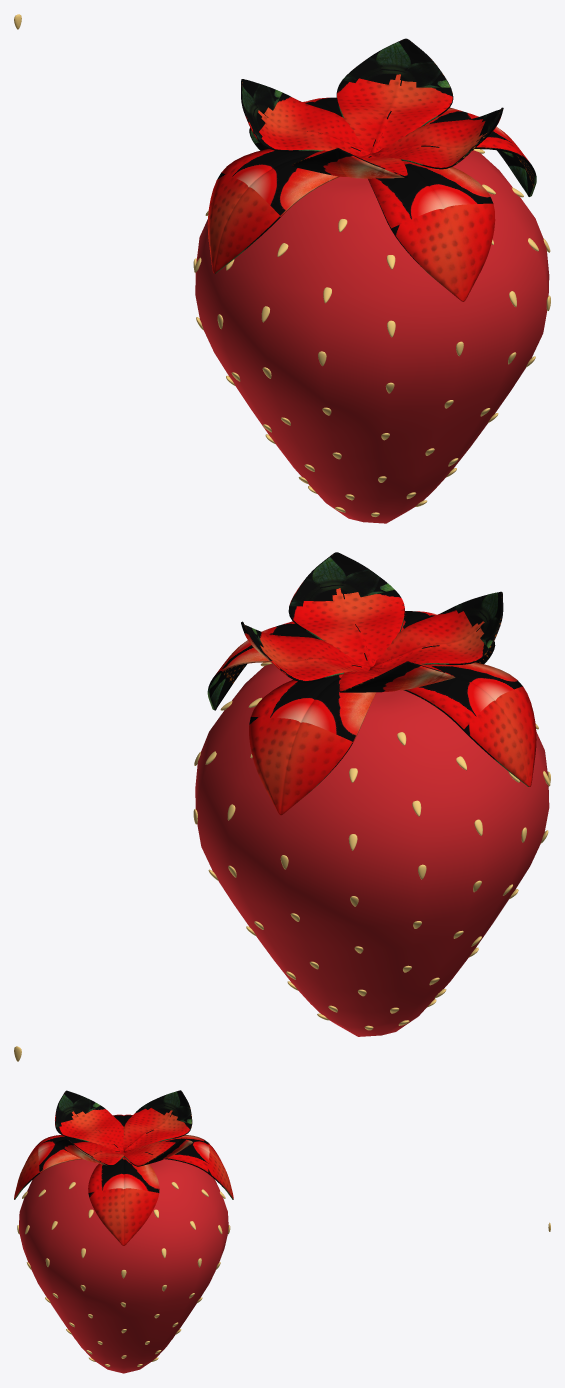
File: Morango.fbx
3 views of the same model, one above another, from view 1: azimuth 30°, elevation 25°; view 2: azimuth 150°, elevation 25°; view 3: azimuth 270°, elevation 25° (orthographic). The views are drawn at different scales.
Visible parts, largest first — view 1: Object_4, Object_450, Object_442, Object_440, Object_444, Object_448, Object_446, Object_452; view 2: Object_4, Object_454, Object_448, Object_440, Object_446, Object_442, Object_444, Object_452; view 3: Object_4, Object_452, Object_444, Object_446, Object_450, Object_454, Object_442, Object_448.
Boxes of the visible parts, x1,y1,x2,y2 form: Object_4: (195, 150, 549, 523); Object_450: (368, 161, 495, 301); Object_442: (336, 38, 453, 153); Object_440: (207, 149, 339, 273); Object_444: (241, 79, 371, 155); Object_448: (372, 107, 503, 169); Object_446: (291, 148, 407, 178); Object_452: (425, 107, 536, 196); Object_4: (195, 663, 549, 1036); Object_454: (249, 674, 375, 815); Object_448: (288, 552, 404, 666); Object_440: (403, 662, 536, 786); Object_446: (372, 591, 503, 668); Object_442: (241, 621, 371, 682); Object_444: (339, 661, 455, 692); Object_452: (207, 621, 319, 710); Object_4: (19, 1159, 228, 1373); Object_452: (88, 1157, 159, 1245); Object_444: (122, 1090, 192, 1150); Object_446: (55, 1090, 123, 1150); Object_450: (14, 1135, 86, 1199); Object_454: (161, 1135, 233, 1199); Object_442: (123, 1138, 192, 1166); Object_448: (55, 1139, 125, 1165).
Bounding box in the file's own units: 7.64 × 9.86 × 18.66.
